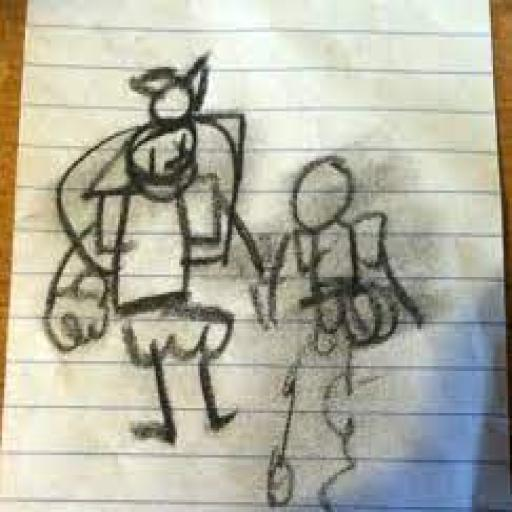person: (35, 66, 265, 448), (255, 145, 435, 512)
